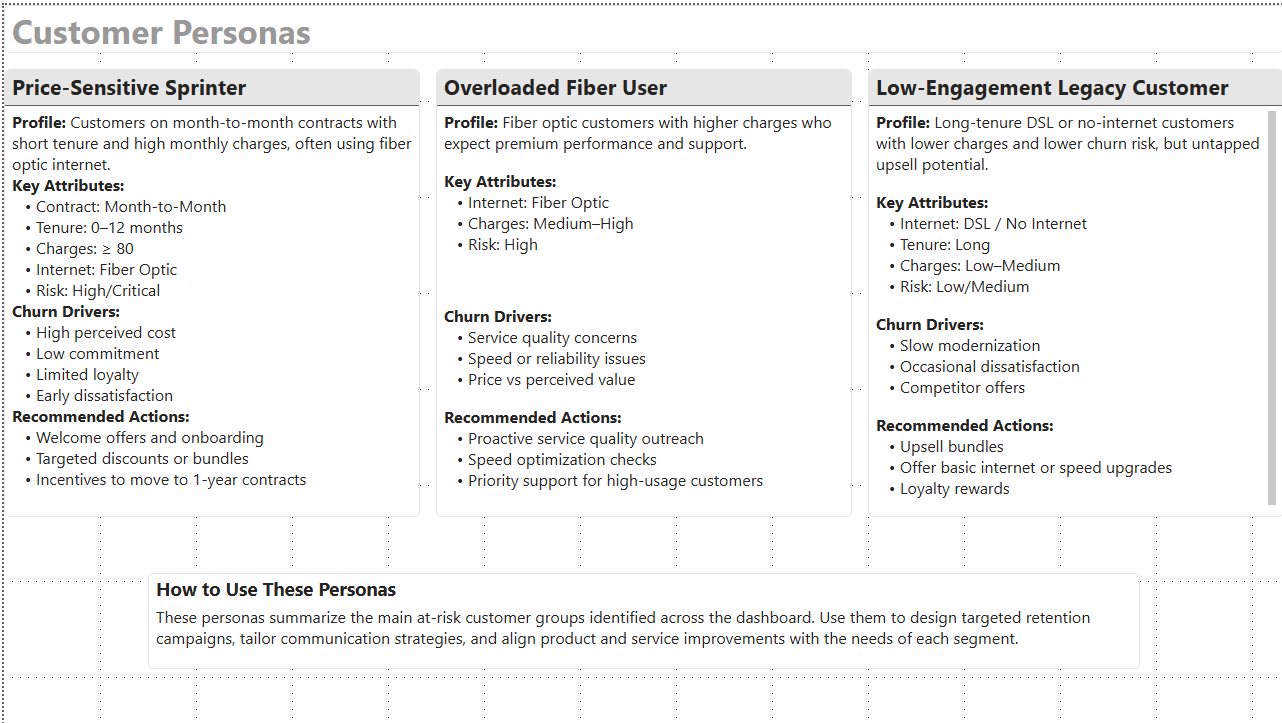

The dashboard page shown, as its layout file describes it:
{"tool":"powerbi","page":{"name":"Customer Personas","canvas":[1280,720],"ordinal":4},"visuals":[{"type":"textbox","title":"Customer Personas","box":[0,0,1280,48],"z":0},{"type":"textbox","title":"Price-Sensitive Sprinter","box":[0,64,416,448],"z":1000},{"type":"textbox","title":"Overloaded Fiber User","box":[432,64,416,448],"z":2000},{"type":"textbox","title":"Low-Engagement Legacy Customer","box":[864,64,416,448],"z":3000},{"type":"textbox","title":"How to Use These Personas","box":[144,568,992,96],"z":4000}]}

Visuals, with their boxes in screenshot pixels (x1, y1, x2, y2), scaled from the page's 1280x720 canvas onto the 1282x723 screenshot:
"Customer Personas" textbox: bbox=[0, 0, 1281, 48]
"Price-Sensitive Sprinter" textbox: bbox=[0, 64, 417, 514]
"Overloaded Fiber User" textbox: bbox=[433, 64, 849, 514]
"Low-Engagement Legacy Customer" textbox: bbox=[865, 64, 1281, 514]
"How to Use These Personas" textbox: bbox=[144, 570, 1138, 667]
